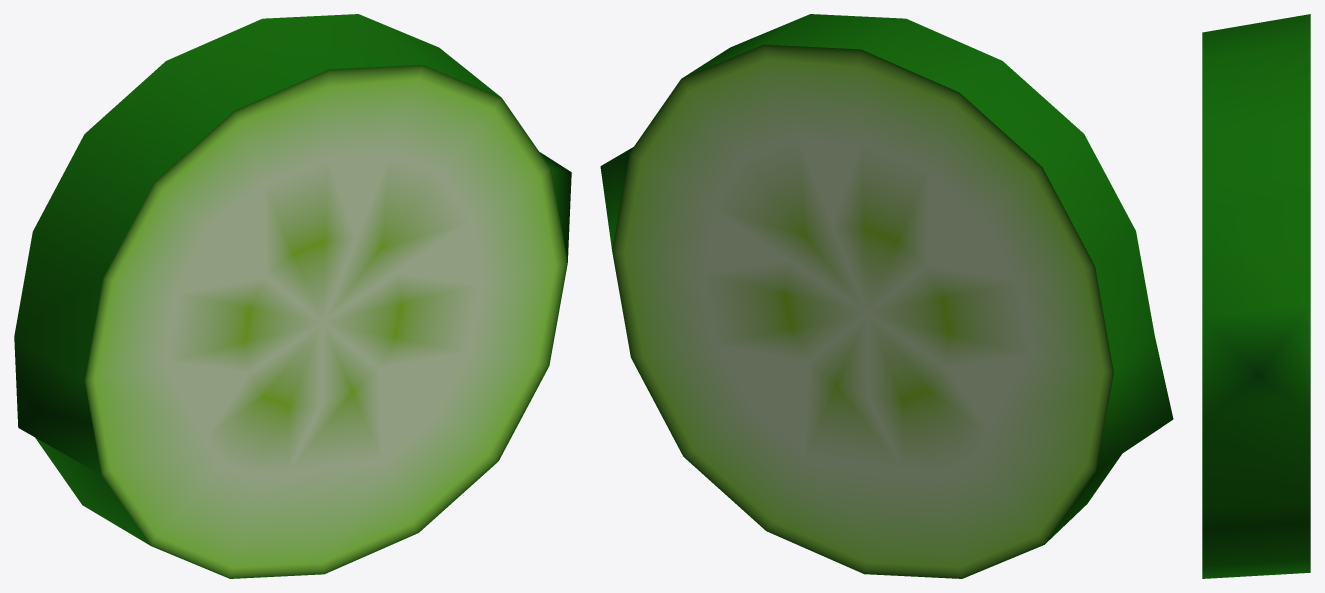
The model's file is Cucumber_Slice_06.fbx.
3 renders of one model, left to right at view 1: azimuth 30°, elevation 25°; view 2: azimuth 150°, elevation 25°; view 3: azimuth 270°, elevation 25°, orthographic. The views are drawn at different scales.
Parts seen in each view (by area): view 1: Cucumber_Slice_06; view 2: Cucumber_Slice_06; view 3: Cucumber_Slice_06.
Part boxes in pixels (x1,y1,x2,y2): Cucumber_Slice_06: [14, 14, 571, 578]; Cucumber_Slice_06: [600, 14, 1173, 578]; Cucumber_Slice_06: [1202, 14, 1310, 578].
Size of the model in its own units: 5.01 by 4.43 by 0.8597.
